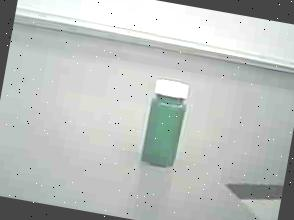Bottle C: (132, 72, 198, 172)
